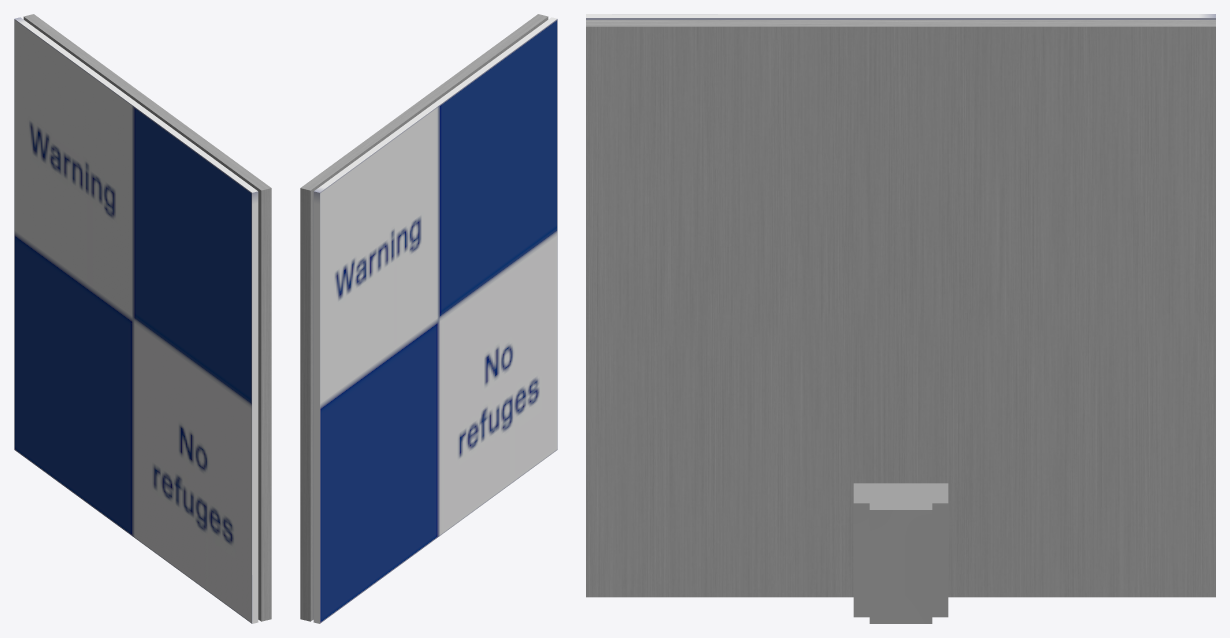
The model's file is no_refuges_large.obj.
3 renders of one model, left to right at view 1: azimuth 30°, elevation 25°; view 2: azimuth 150°, elevation 25°; view 3: azimuth 270°, elevation 25°, orthographic. The views are drawn at different scales.
Visible parts, largest first — view 1: cube; view 2: cube; view 3: cube.
Part boxes in pixels (bbox=[...]): cube: bbox=[14, 14, 271, 623]; cube: bbox=[300, 14, 557, 623]; cube: bbox=[586, 14, 1215, 623].
Size of the model in its own units: 0.0922 by 0.625 by 0.625.
2 materials, 2 textured.
